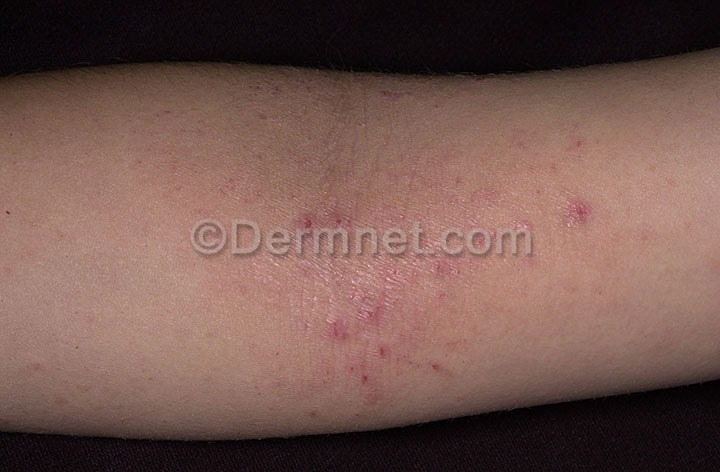Eczema: (145, 68, 697, 414)
